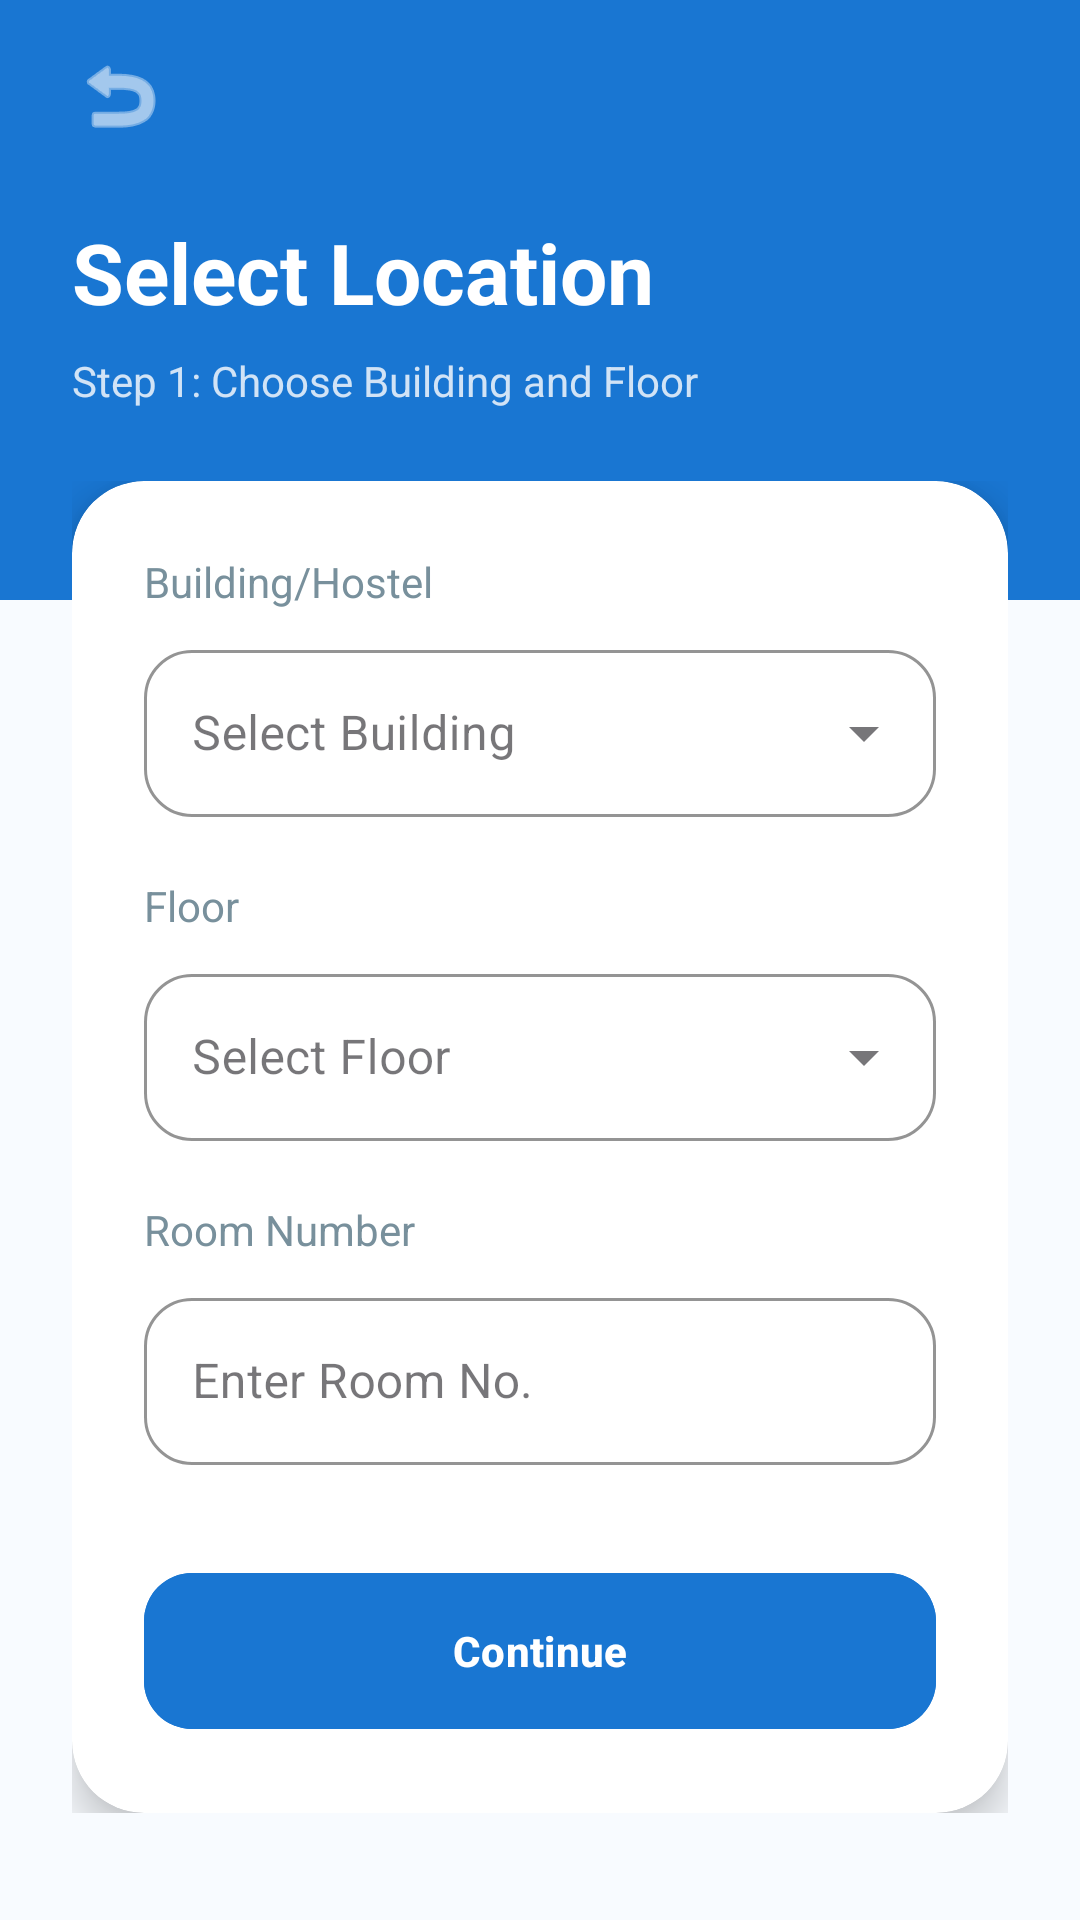

Screen size 1080×1920. Icon name, then its box in pixels as (x1, y1, x2, y2):
Back: (87, 65, 156, 128)
